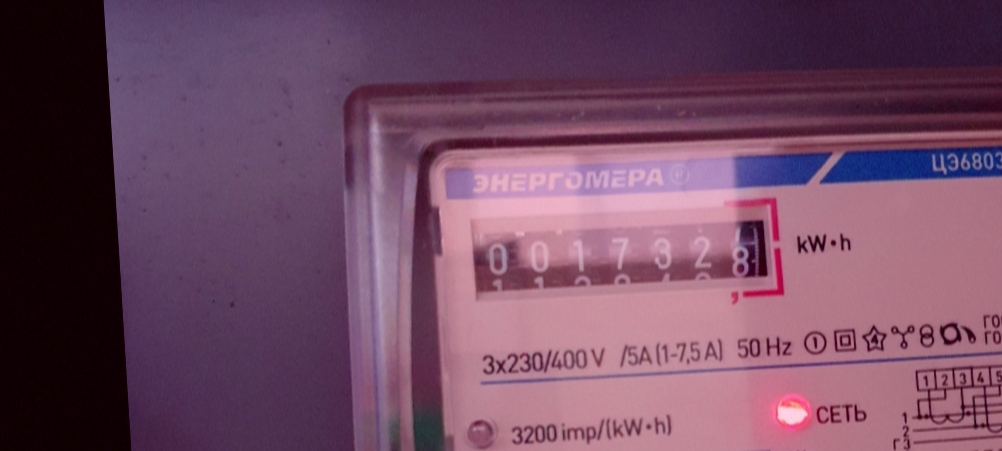0: (486, 239, 510, 277), (528, 239, 550, 273)
1: (571, 236, 588, 273)
2: (690, 234, 713, 271)
3: (650, 235, 675, 272)
7: (607, 233, 633, 272)
8: (728, 243, 750, 279)
screen: (460, 197, 788, 318)
